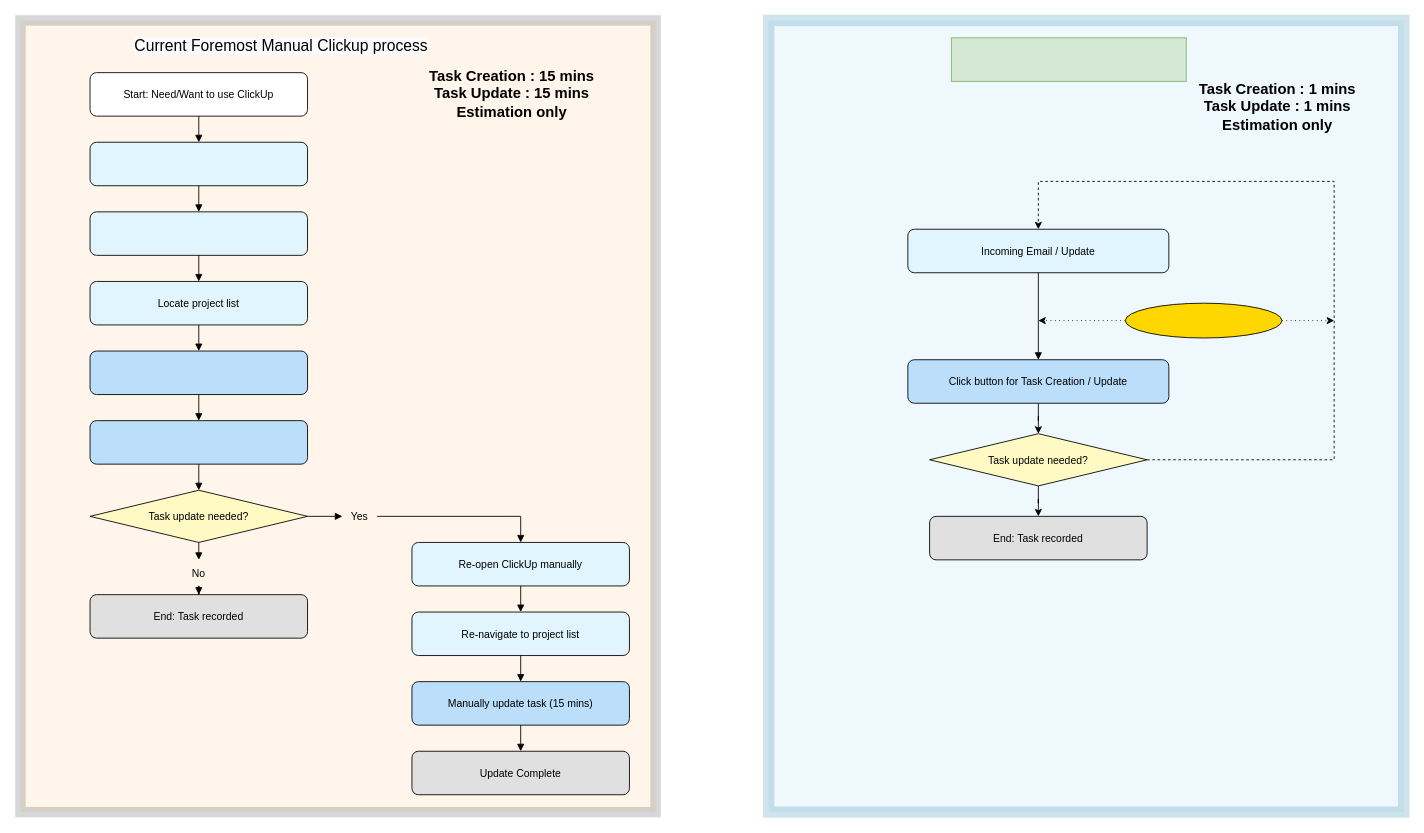
This 1424x833 diagram has some shape labels left out. Each missing label, with the centre of its shape:
"Email Integration (ClickUp)" goes at point 1203,320.
"Manually create new task" goes at point 198,372.
"Manually open ClickUp" goes at point 198,163.
"Navigate through Project pages & folders" goes at point 198,233.
"Proposed Integration with Foremost Email" goes at point 1068,59.
"Write task details (15 mins)" goes at point 198,442.
